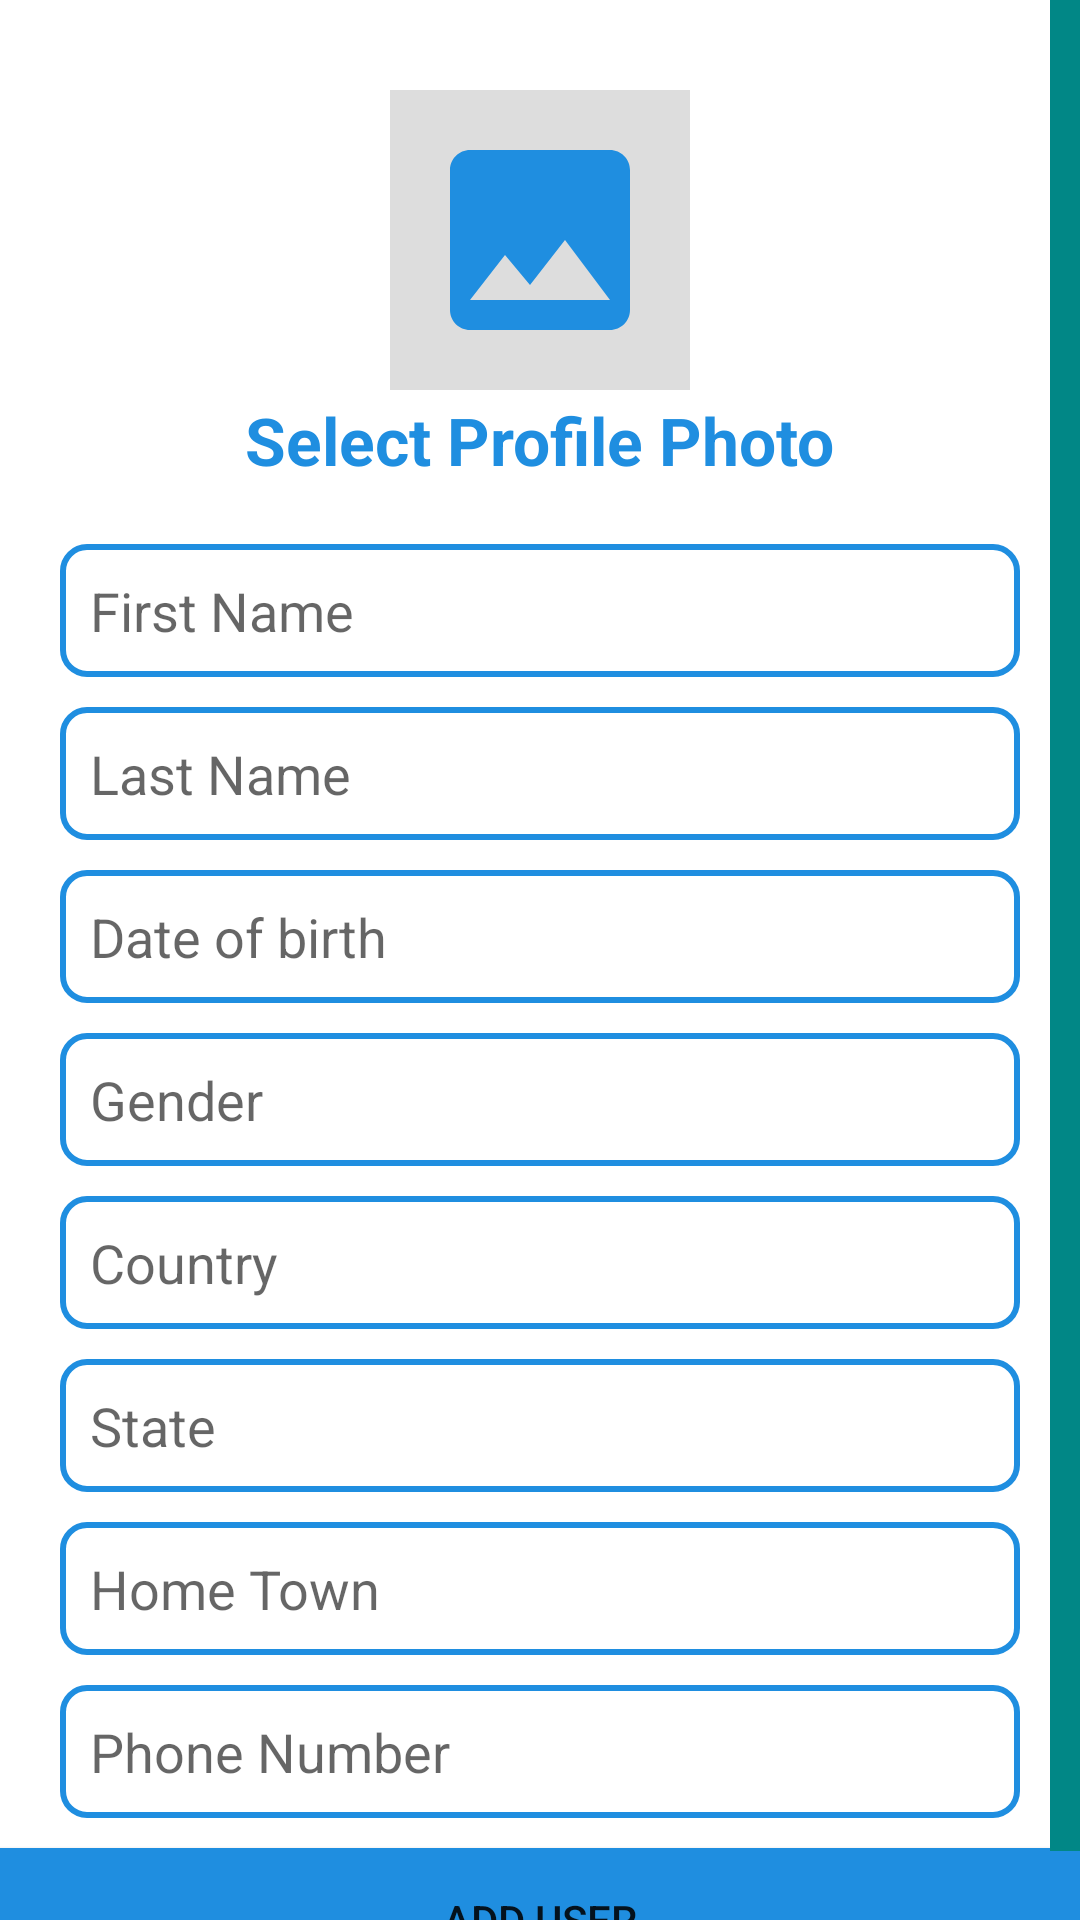

Screen size 1080x1920. Icon name, then its center in pixels as (x,y):
insert photo: (540,240)
